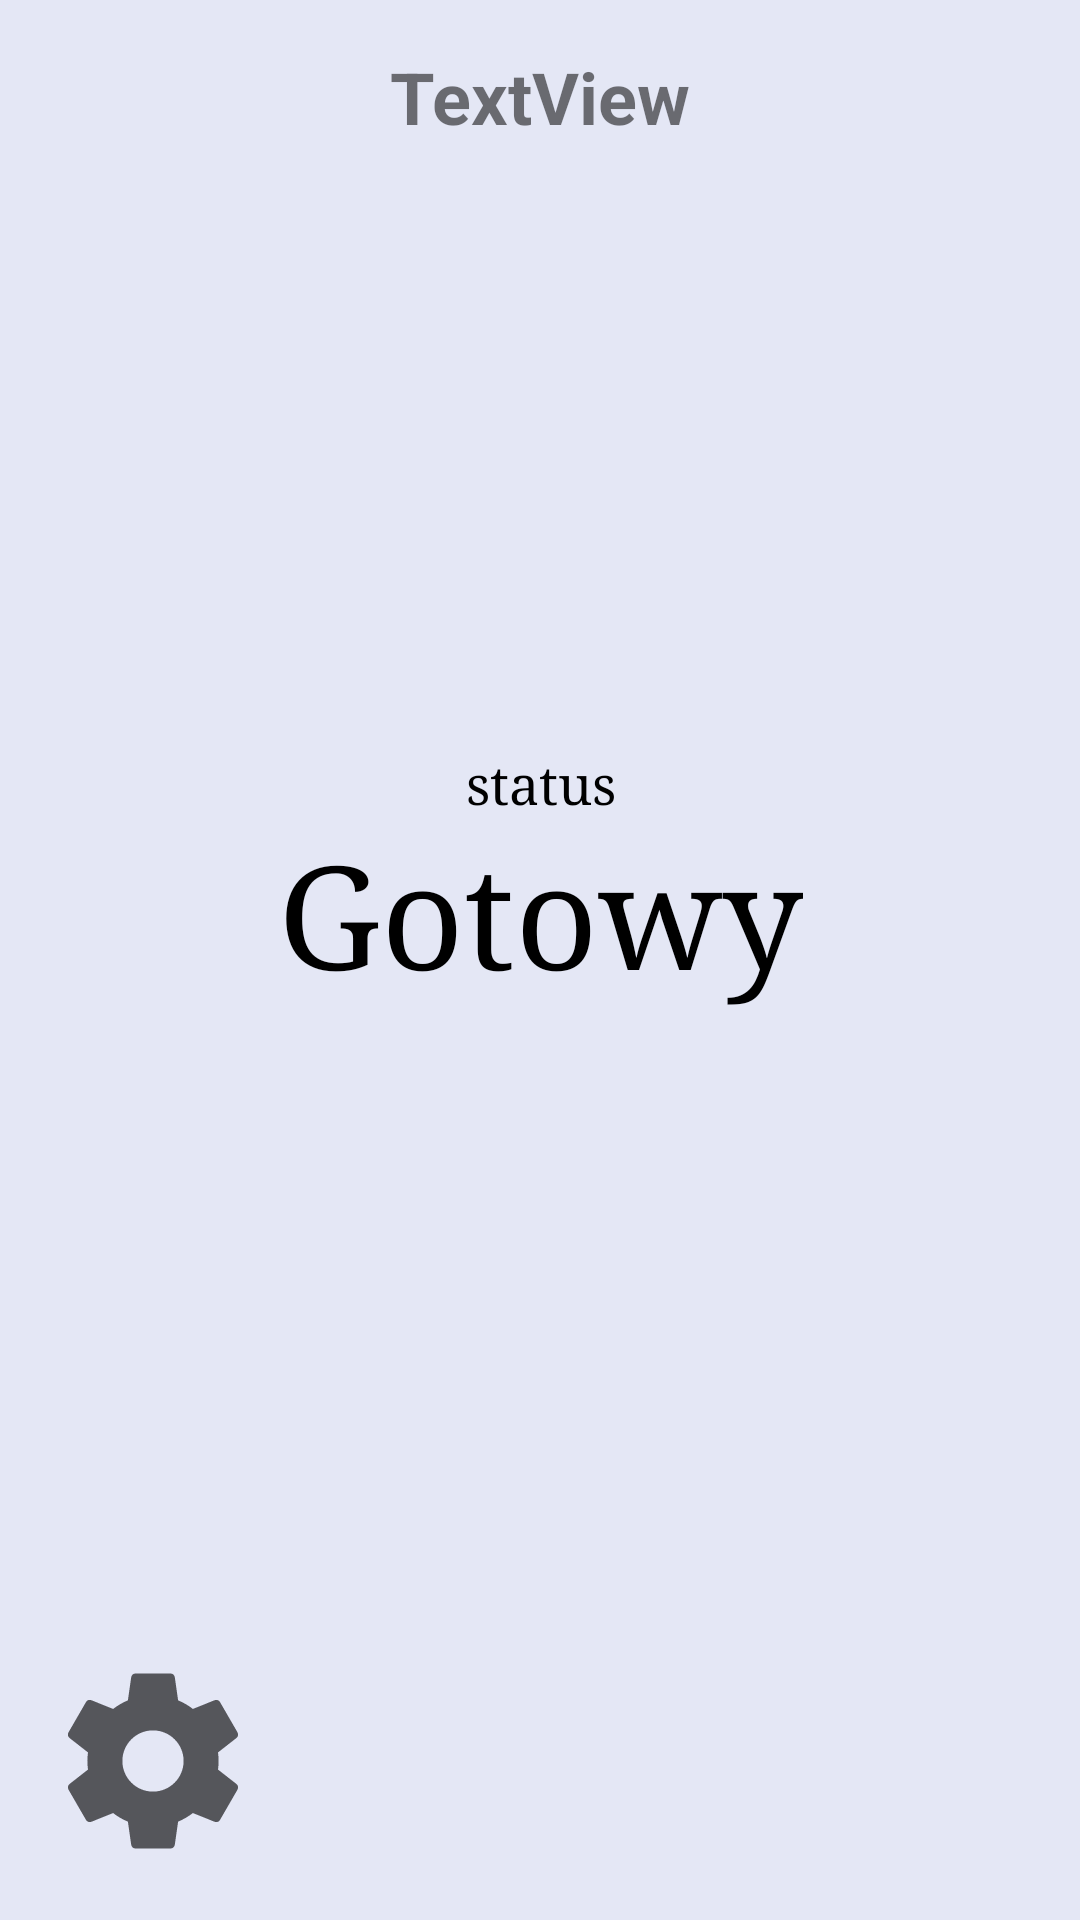

Icons on this 1080x1920 Android screen, each with its box as (x1, y1, x2, y2):
settings: (68, 1673, 238, 1849)
